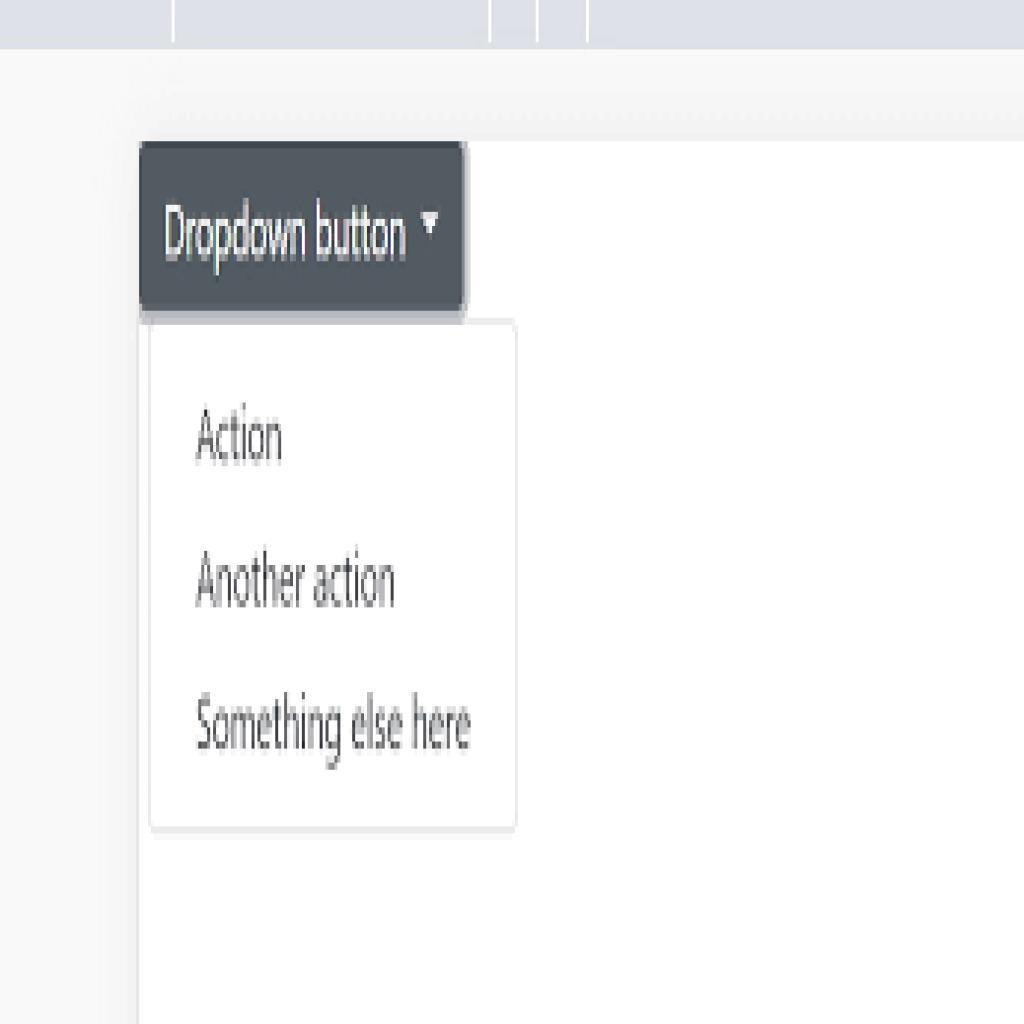dropdown: (140, 140, 466, 317)
